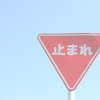Regulatory_sign_triangle: (36, 32, 100, 92)
